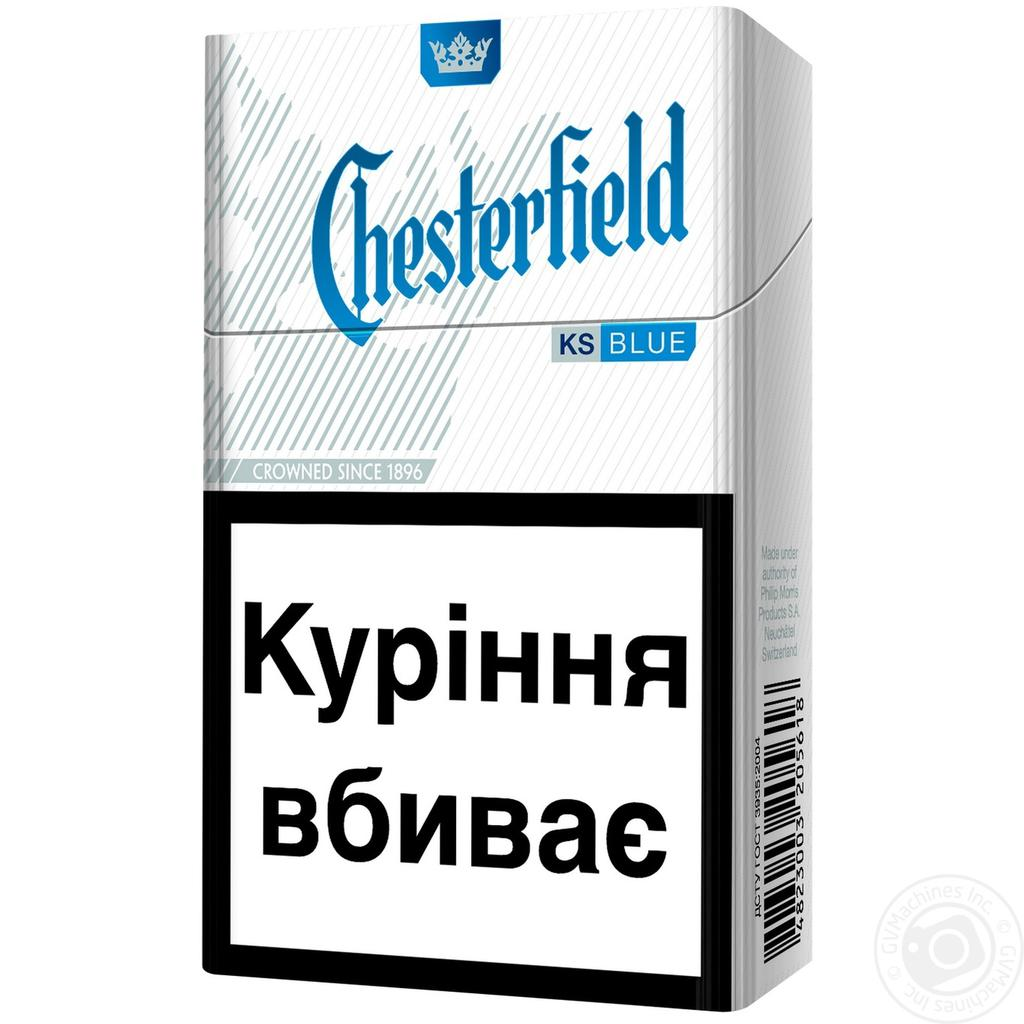chesterfield_blue: (210, 7, 736, 979)
